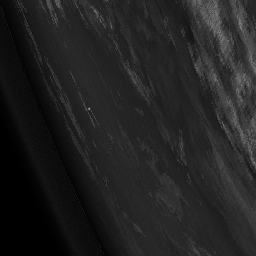Target: (87, 107, 91, 111)
